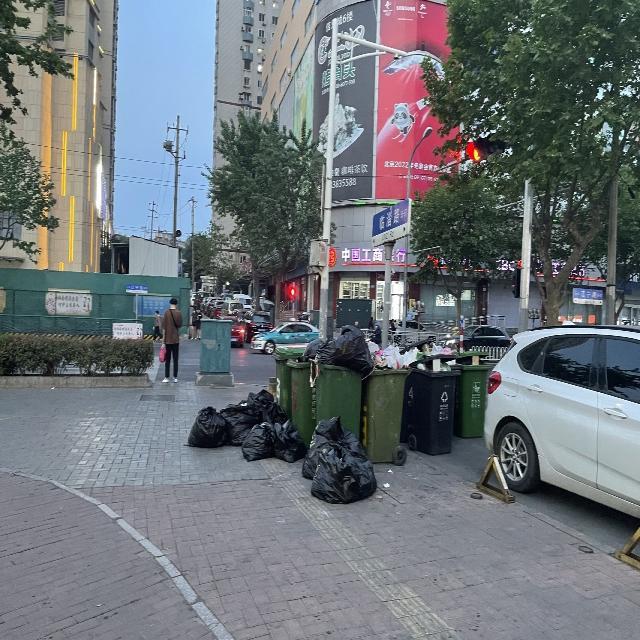garbage: (182, 388, 377, 504)
garbage_bin: (272, 346, 305, 417)
overflow: (308, 322, 372, 439), (359, 342, 412, 463), (409, 353, 459, 454), (285, 337, 324, 449), (455, 350, 490, 437)
